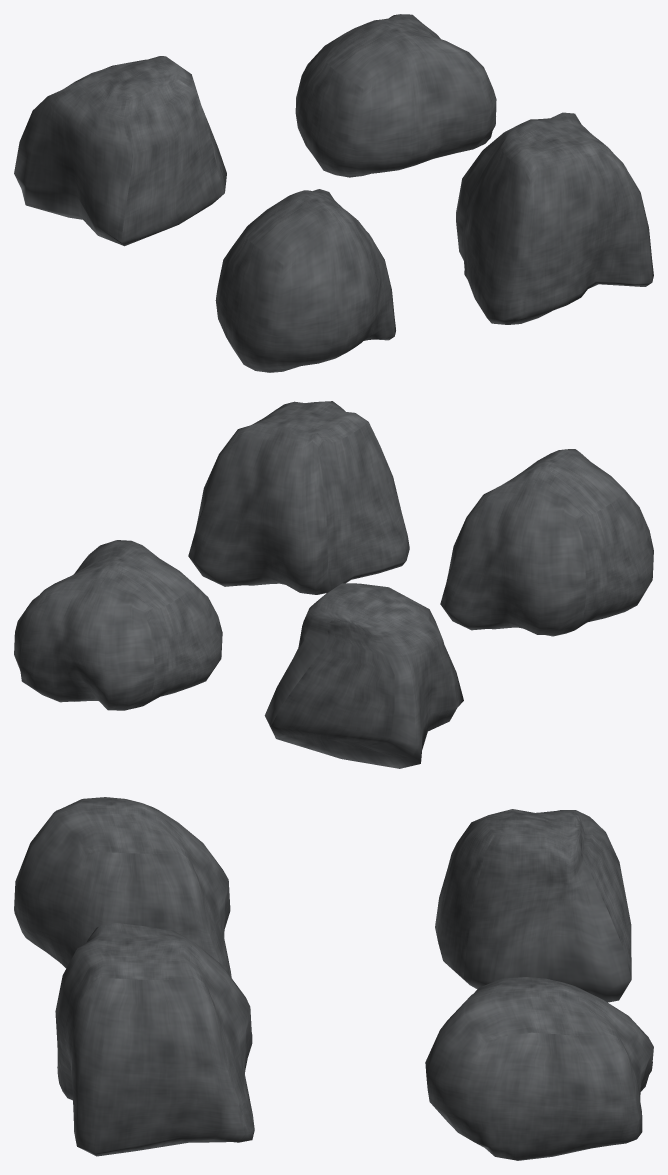
Rendered from Keien.fbx.
The picture shows the model from 3 angles, top to bottom: view 1: azimuth 30°, elevation 25°; view 2: azimuth 150°, elevation 25°; view 3: azimuth 270°, elevation 25°; orthographic projection. The views are drawn at different scales.
Visible parts, largest first — view 1: pCube2, pCube1, pCube4, pCube3; view 2: pCube2, pCube3, pCube1, pCube4; view 3: pCube2, pCube4, pCube1, pCube3.
Boxes of the visible parts, x1,y1,x2,y2 form: pCube2: (456,112,653,324); pCube1: (14,56,226,246); pCube4: (295,14,496,177); pCube3: (215,189,395,372); pCube2: (188,401,409,594); pCube3: (440,449,653,636); pCube1: (264,583,463,768); pCube4: (14,540,222,710); pCube2: (55,923,254,1156); pCube4: (425,977,653,1160); pCube1: (435,809,631,1002); pCube3: (14,797,231,977).
Size of the model in its own units: 21.09 by 7.51 by 23.98.
Materials: 1 (1 with a texture image).
